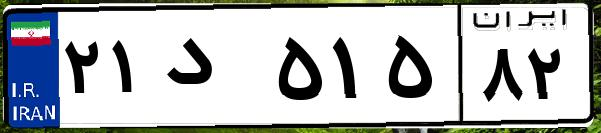1: (330, 28, 385, 110), (110, 28, 158, 98)
2: (57, 26, 110, 100), (525, 38, 570, 115)
5: (270, 28, 330, 110), (385, 28, 445, 110)
8: (475, 38, 525, 113)
د: (158, 20, 270, 120)
